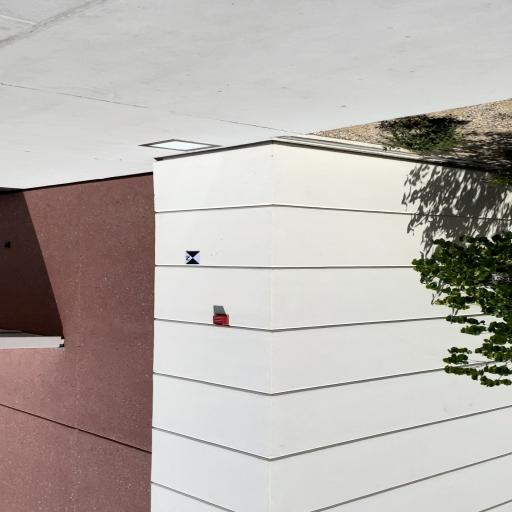target2: (185, 251, 201, 264)
